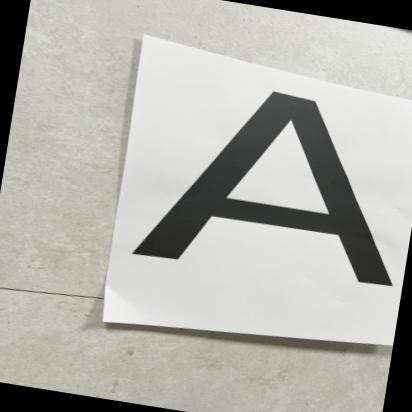seat: (122, 60, 412, 316)
